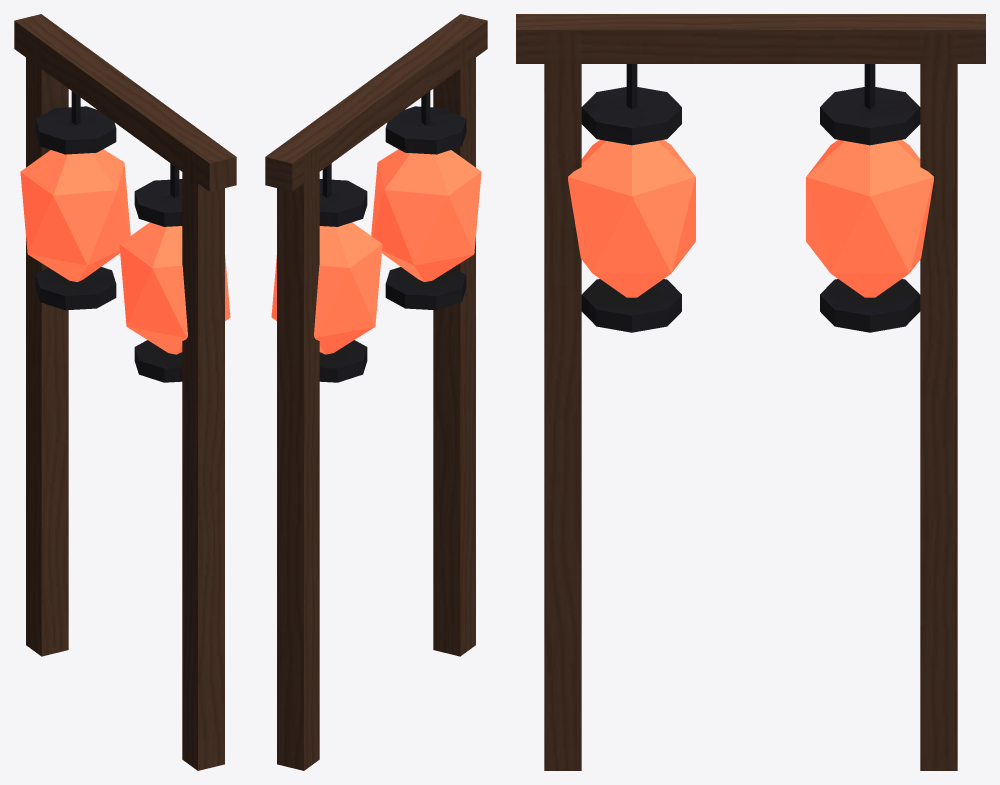
Rendered from lykta_par_tex.glb.
3 renders of one model, left to right at view 1: azimuth 30°, elevation 25°; view 2: azimuth 150°, elevation 25°; view 3: azimuth 270°, elevation 25°, orthographic. The views are drawn at different scales.
Visible parts, largest first — view 1: lykta_par; view 2: lykta_par; view 3: lykta_par.
Part boxes in pixels (x1,y1,x2,y2): lykta_par: (14,14,236,770); lykta_par: (265,14,487,770); lykta_par: (516,14,985,770).
Bounding box in the file's own units: 0.4293 × 2.61 × 1.5.
Materials: 3 (2 with a texture image).
